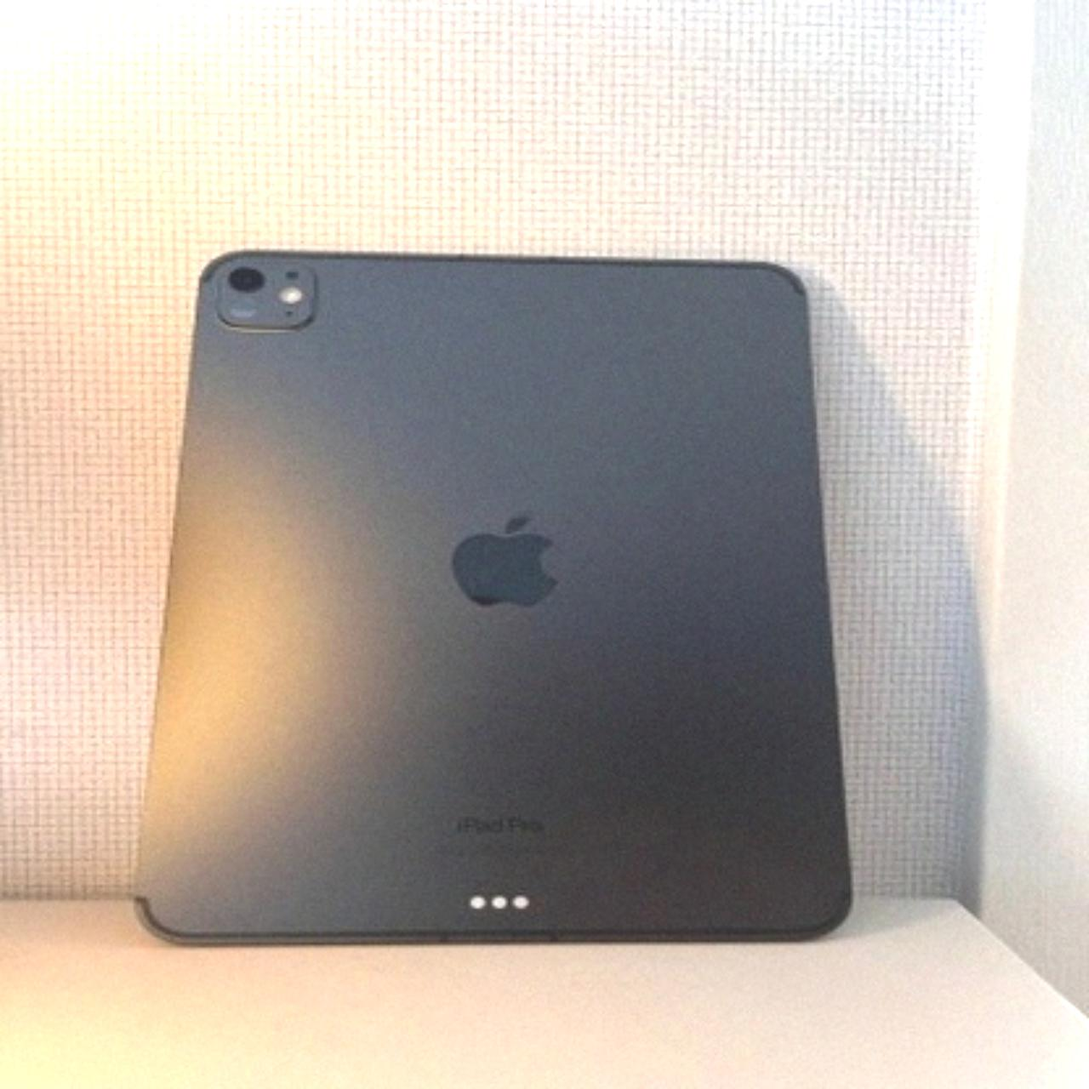Tablet_PC: (113, 239, 874, 947)
